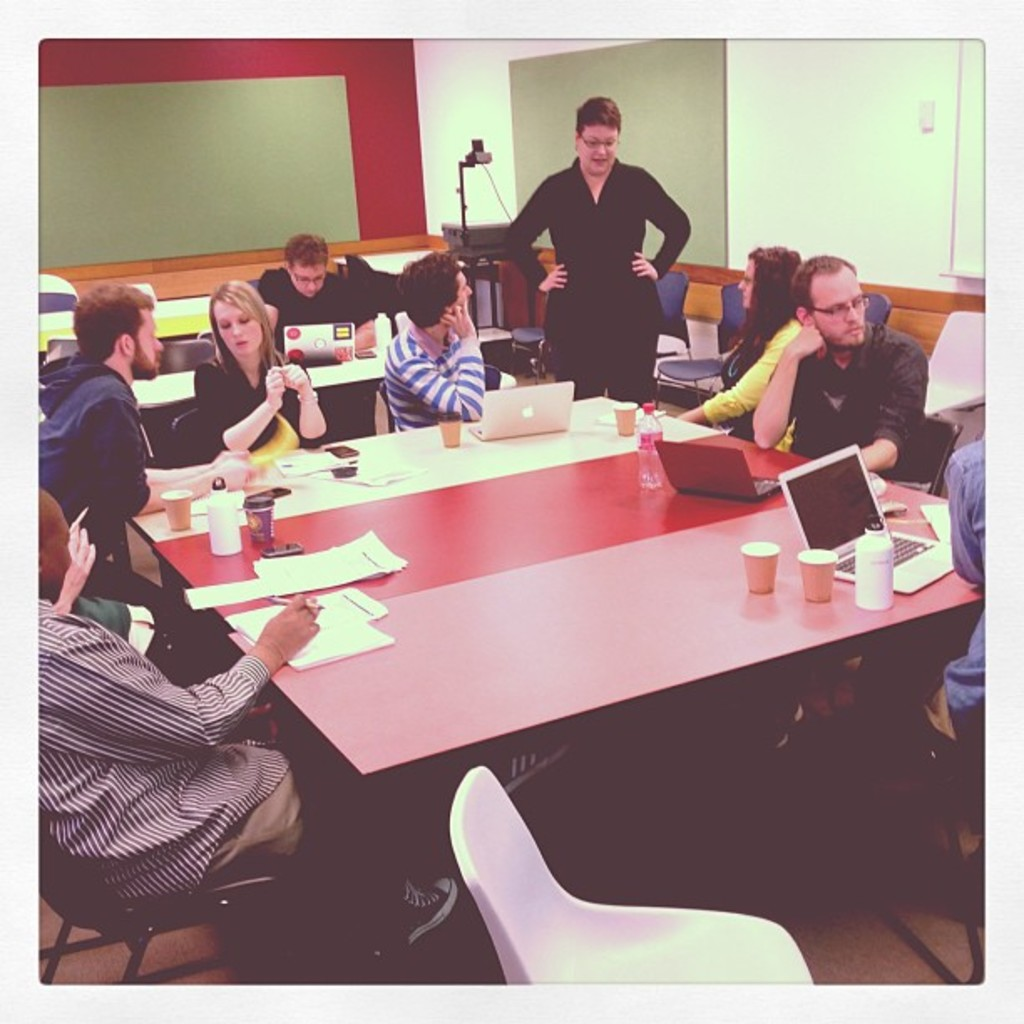Footwear: (479, 738, 569, 801), (398, 873, 458, 952), (761, 689, 805, 760), (497, 361, 517, 392)
